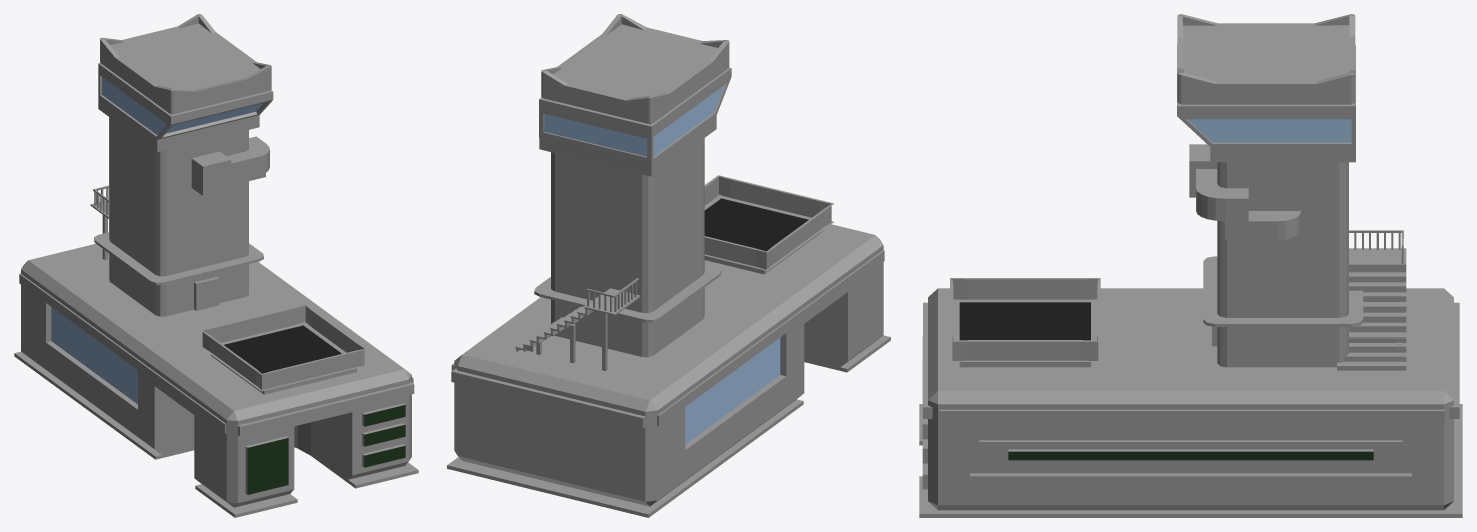
The picture shows the model from 3 angles, left to right: view 1: azimuth 30°, elevation 25°; view 2: azimuth 150°, elevation 25°; view 3: azimuth 270°, elevation 25°; orthographic projection. The views are drawn at different scales.
Parts seen in each view (by area): view 1: Cube.001; view 2: Cube.001; view 3: Cube.001.
Boxes of the visible parts, bbox=[...] form: Cube.001: bbox=[14, 14, 418, 517]; Cube.001: bbox=[447, 14, 890, 517]; Cube.001: bbox=[919, 14, 1462, 517].
Bounding box in the file's own units: 408 × 702 × 826.
